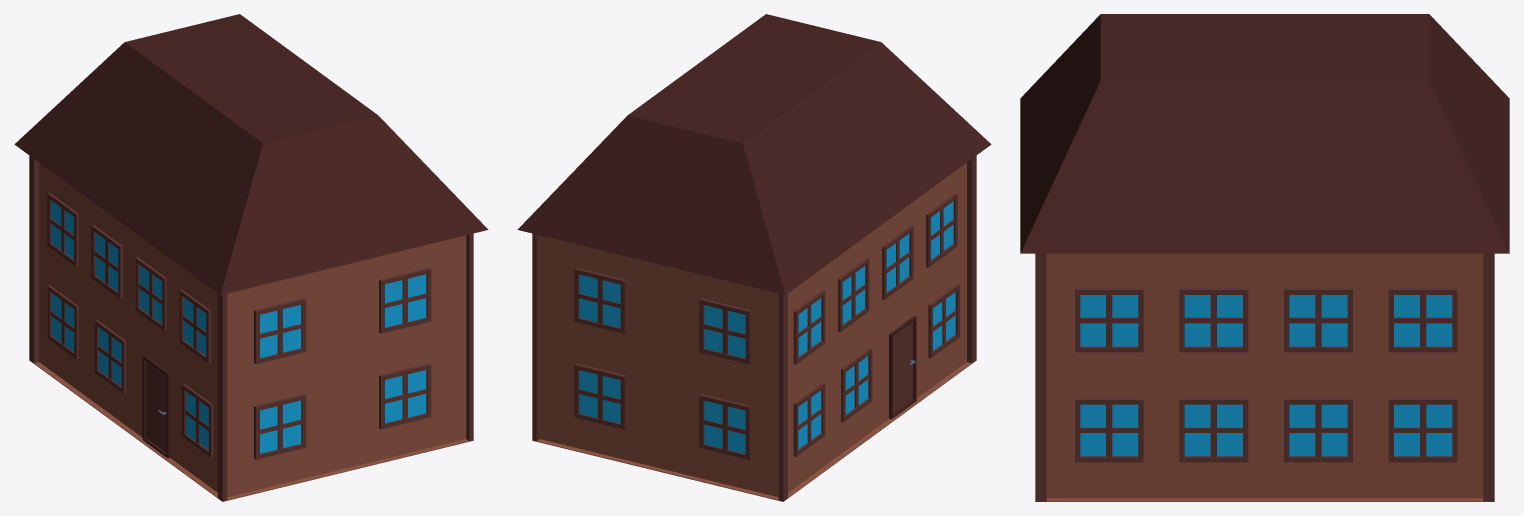
The model's file is F_House_003.fbx.
3 renders of one model, left to right at view 1: azimuth 30°, elevation 25°; view 2: azimuth 150°, elevation 25°; view 3: azimuth 270°, elevation 25°, orthographic. The views are drawn at different scales.
Visible parts, largest first — view 1: F_House_003; view 2: F_House_003; view 3: F_House_003.
Boxes of the visible parts, bbox=[...] form: F_House_003: bbox=[14, 14, 488, 501]; F_House_003: bbox=[517, 14, 991, 501]; F_House_003: bbox=[1020, 14, 1509, 501].
Size of the model in its own units: 906 by 1039 by 1206.
